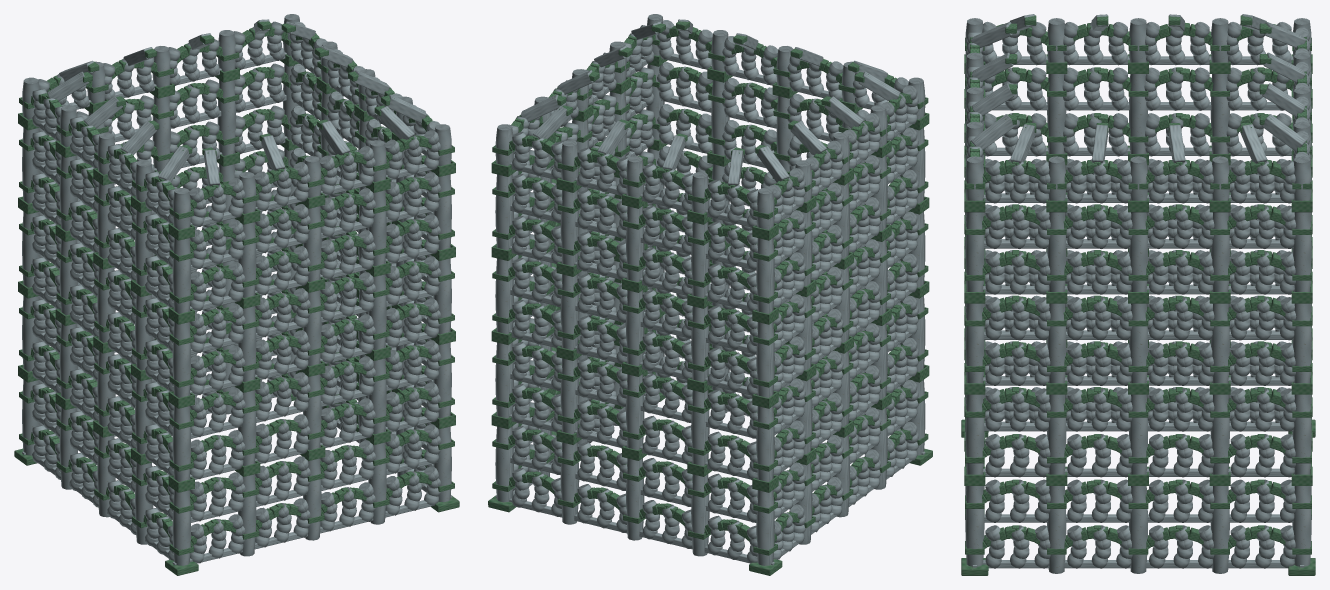
3 renders of one model, left to right at view 1: azimuth 30°, elevation 25°; view 2: azimuth 150°, elevation 25°; view 3: azimuth 270°, elevation 25°, orthographic. The views are drawn at different scales.
Parts seen in each view (by area): view 1: Tier 0 side 0 post 0, Tier 1 side 0 post 0, Tier 3 side 0 post 0, Tier 2 side 0 post 0, Tier 3 side 2 post 1, Tier 3 side 2 post 2, Tier 0 side 0 post 3, Tier 0 side 0 post 2, Tier 0 side 0 post 1, Tier 2 side 0 post 2, Tier 3 side 0 post 2, Tier 1 side 0 post 3 (+31 smaller); view 2: Tier 0 side 3 post 0, Tier 1 side 3 post 0, Tier 2 side 3 post 0, Tier 3 side 3 post 0, Tier 0 side 2 post 3, Tier 0 side 2 post 1, Tier 0 side 2 post 2, Tier 0 side 2 post 0, Tier 2 side 2 post 0, Tier 1 side 2 post 0, Tier 3 side 2 post 0, Tier 3 side 2 post 3 (+30 smaller); view 3: Tier 1 side 1 post 0, Tier 2 side 1 post 0, Tier 3 side 1 post 0, Tier 0 side 1 post 0, Tier 0 side 1 post 1, Tier 0 side 1 post 3, Tier 0 side 1 post 2, Tier 1 side 2 post 0, Tier 2 side 2 post 0, Tier 3 side 2 post 0, Tier 0 side 2 post 0, Tier 1 side 1 post 1 (+31 smaller).
Part boxes in pixels (x1=…): Tier 0 side 0 post 0: x1=172, y1=490, x2=190, y2=565; Tier 1 side 0 post 0: x1=172, y1=406, x2=190, y2=481; Tier 3 side 0 post 0: x1=172, y1=238, x2=190, y2=313; Tier 2 side 0 post 0: x1=172, y1=322, x2=190, y2=397; Tier 3 side 2 post 1: x1=217, y1=80, x2=236, y2=155; Tier 3 side 2 post 2: x1=152, y1=96, x2=170, y2=171; Tier 0 side 0 post 3: x1=368, y1=442, x2=386, y2=524; Tier 0 side 0 post 2: x1=303, y1=458, x2=321, y2=540; Tier 0 side 0 post 1: x1=238, y1=474, x2=256, y2=556; Tier 2 side 0 post 2: x1=303, y1=290, x2=321, y2=366; Tier 3 side 0 post 2: x1=303, y1=206, x2=321, y2=281; Tier 1 side 0 post 3: x1=368, y1=358, x2=386, y2=434; Tier 0 side 3 post 0: x1=756, y1=490, x2=774, y2=565; Tier 1 side 3 post 0: x1=756, y1=406, x2=774, y2=481; Tier 2 side 3 post 0: x1=756, y1=322, x2=774, y2=397; Tier 3 side 3 post 0: x1=756, y1=238, x2=774, y2=313; Tier 0 side 2 post 3: x1=691, y1=474, x2=709, y2=556; Tier 0 side 2 post 1: x1=560, y1=442, x2=579, y2=524; Tier 0 side 2 post 2: x1=626, y1=458, x2=644, y2=540; Tier 0 side 2 post 0: x1=495, y1=426, x2=513, y2=502; Tier 2 side 2 post 0: x1=495, y1=258, x2=513, y2=334; Tier 1 side 2 post 0: x1=495, y1=342, x2=513, y2=418; Tier 3 side 2 post 0: x1=495, y1=174, x2=513, y2=250; Tier 3 side 2 post 3: x1=691, y1=222, x2=709, y2=297; Tier 1 side 1 post 0: x1=965, y1=394, x2=984, y2=474; Tier 2 side 1 post 0: x1=965, y1=303, x2=984, y2=383; Tier 3 side 1 post 0: x1=965, y1=212, x2=984, y2=291; Tier 0 side 1 post 0: x1=965, y1=486, x2=984, y2=566; Tier 0 side 1 post 1: x1=1047, y1=486, x2=1066, y2=573; Tier 0 side 1 post 3: x1=1210, y1=486, x2=1229, y2=573; Tier 0 side 1 post 2: x1=1129, y1=486, x2=1147, y2=573; Tier 1 side 2 post 0: x1=1292, y1=394, x2=1311, y2=474; Tier 2 side 2 post 0: x1=1292, y1=303, x2=1311, y2=383; Tier 3 side 2 post 0: x1=1292, y1=212, x2=1311, y2=291; Tier 0 side 2 post 0: x1=1292, y1=486, x2=1311, y2=566; Tier 1 side 1 post 1: x1=1047, y1=394, x2=1066, y2=474.
Size of the model in its own units: 1.95 by 2.62 by 1.95.
2 materials, 2 textured.
